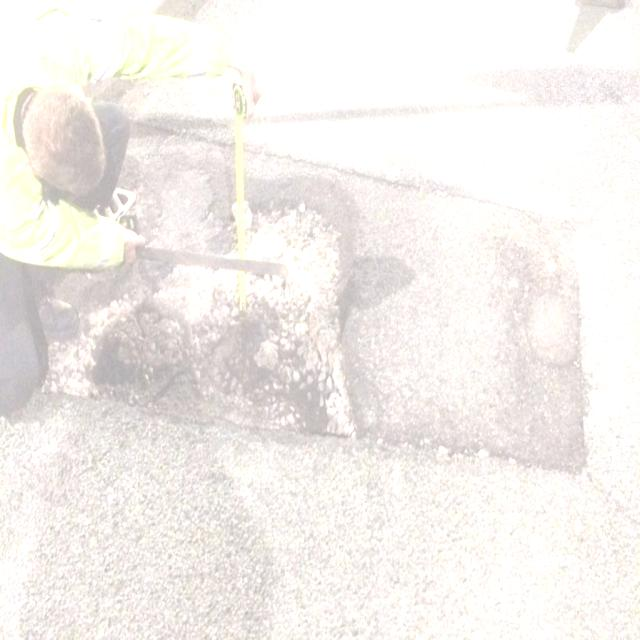Pothole: (127, 97, 620, 526)
